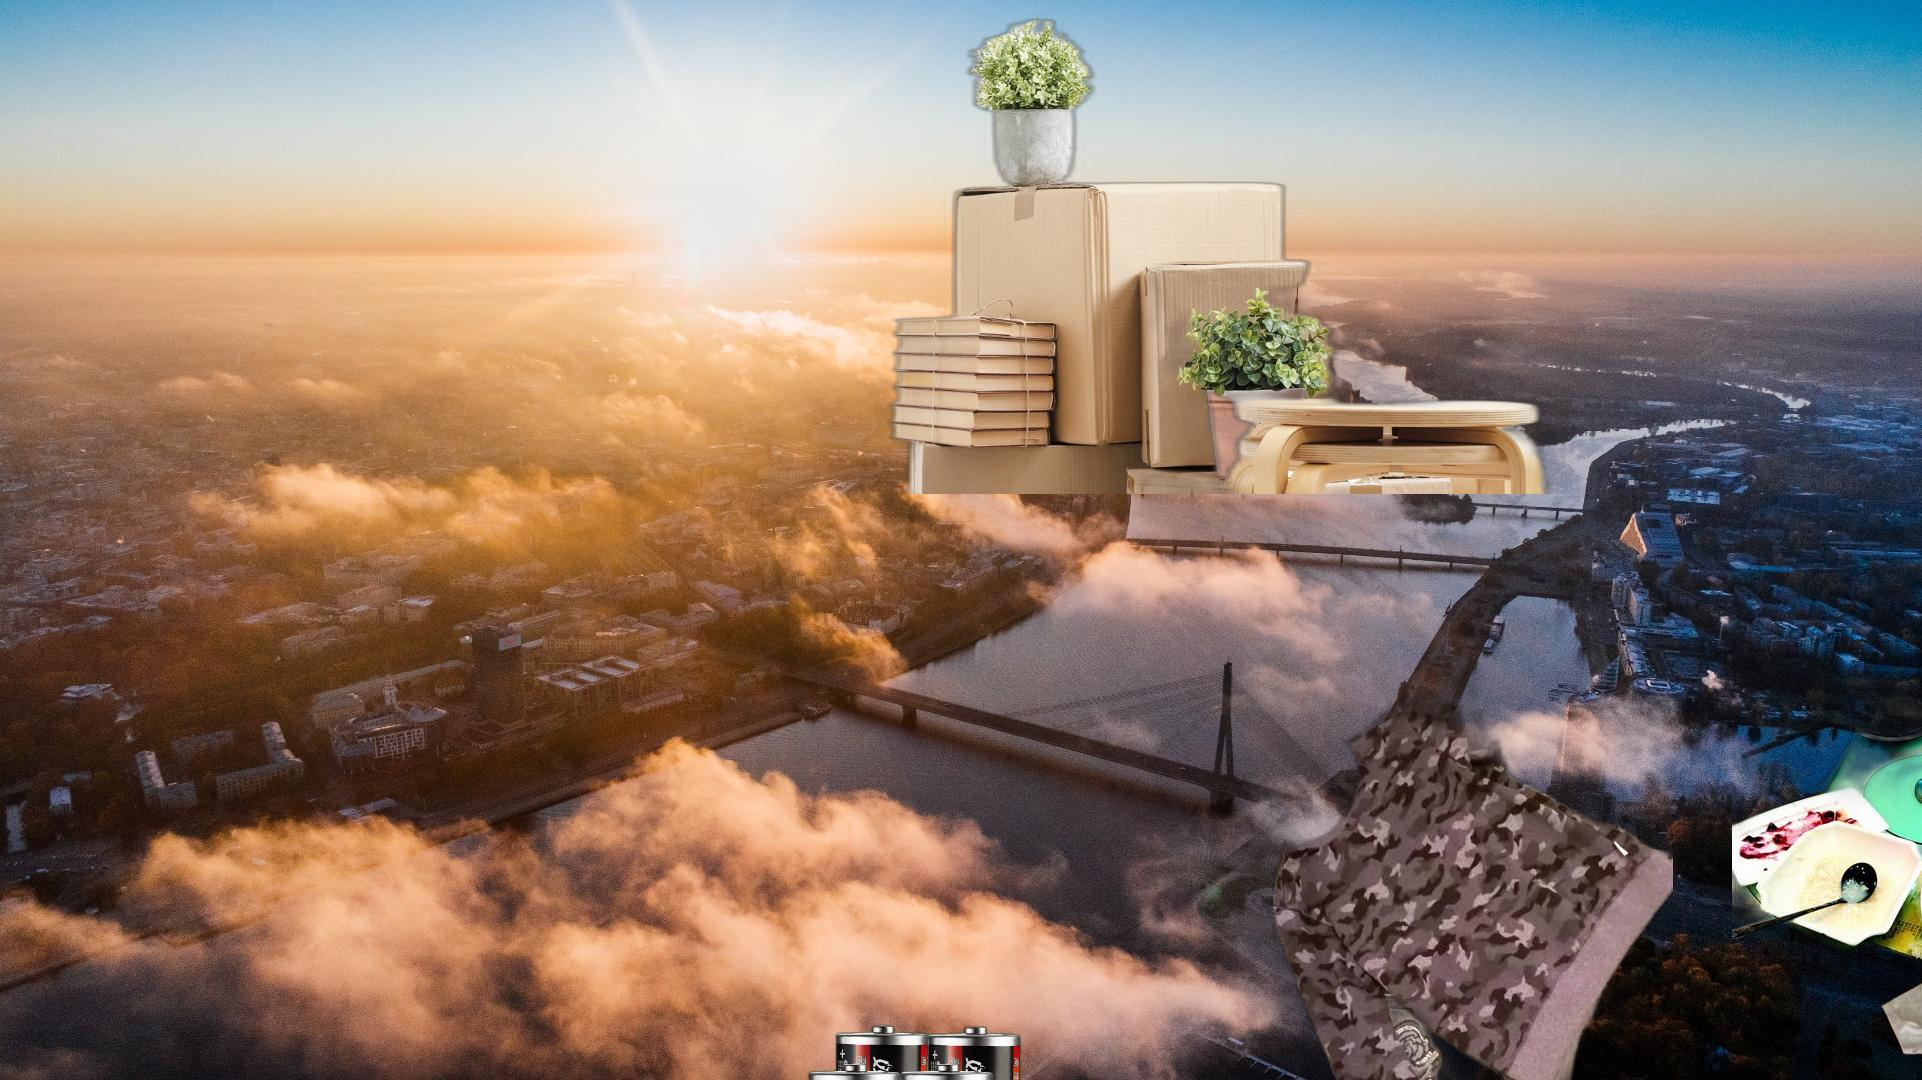battery: (804, 1021, 1024, 1080)
biological: (1732, 663, 1922, 973)
clothes: (1273, 651, 1673, 1080), (1877, 792, 1922, 1080)
plastic-bottles: (1398, 800, 1910, 1080)
trashbox-cardboard: (878, 15, 1604, 494)
